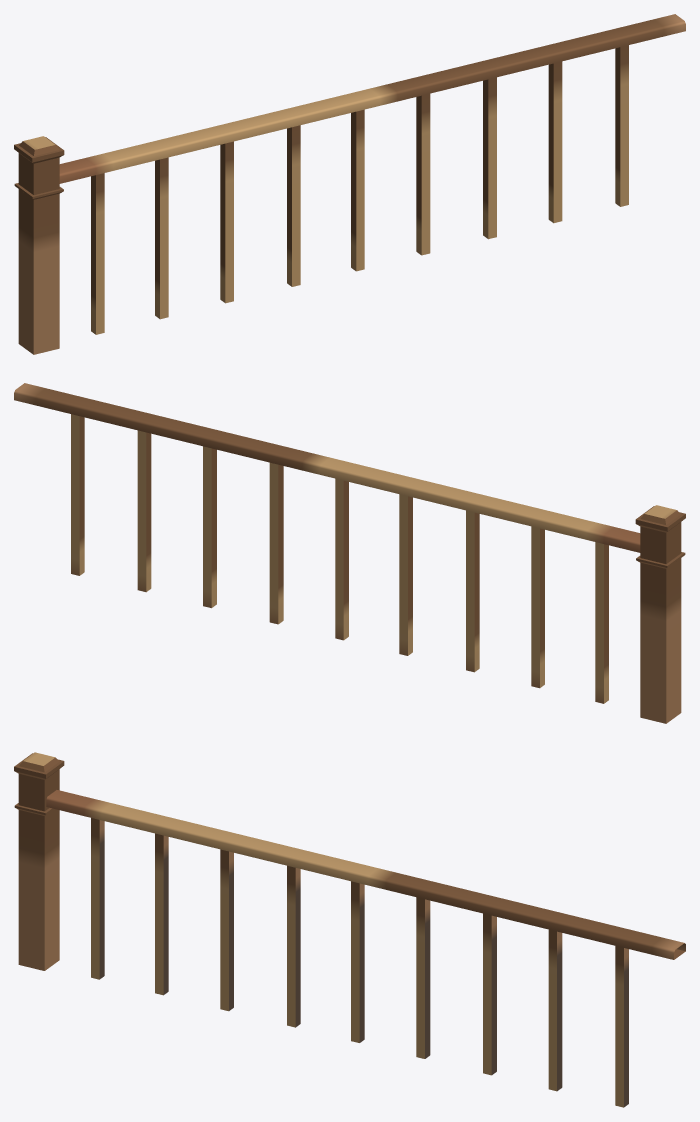
Rendered from DBK_Stairs_Wood_Rail_Tile.FBX.
3 views of the same model, one above another, from view 1: azimuth 30°, elevation 25°; view 2: azimuth 150°, elevation 25°; view 3: azimuth 330°, elevation 25° (orthographic).
Visible parts, largest first — view 1: DBK_Stairs_Wood_Rail_Tile; view 2: DBK_Stairs_Wood_Rail_Tile; view 3: DBK_Stairs_Wood_Rail_Tile.
Boxes of the visible parts, left/top/right/bottom form: DBK_Stairs_Wood_Rail_Tile: left=14, top=14, right=685, bottom=354; DBK_Stairs_Wood_Rail_Tile: left=14, top=383, right=685, bottom=723; DBK_Stairs_Wood_Rail_Tile: left=14, top=752, right=685, bottom=1107.
Bounding box in the file's own units: 301 × 89.17 × 14.68.
1 material, 1 textured.
